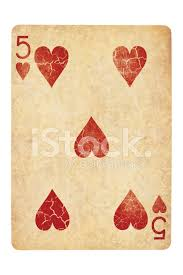five of hearts: (11, 25, 172, 250)
